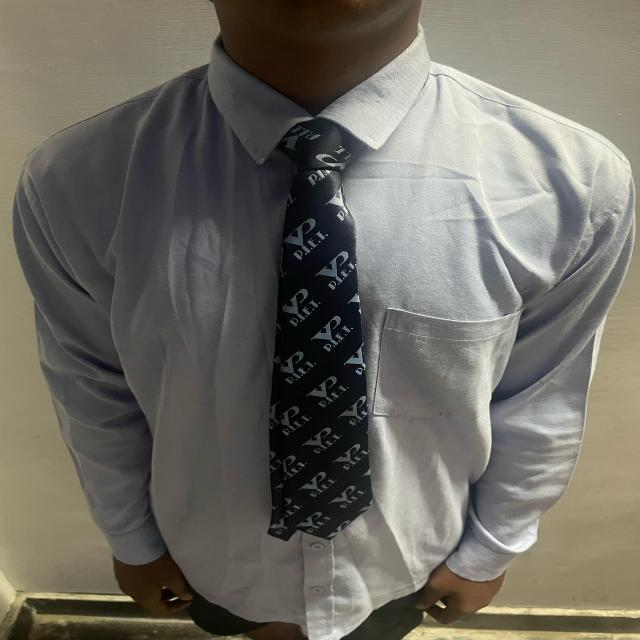Tie: (267, 119, 374, 542)
uniform: (11, 24, 636, 638)
